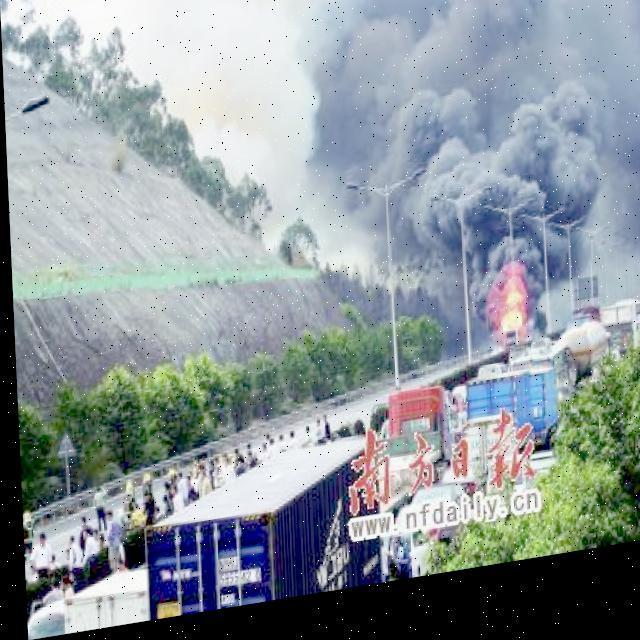Fire: (484, 270, 532, 364)
